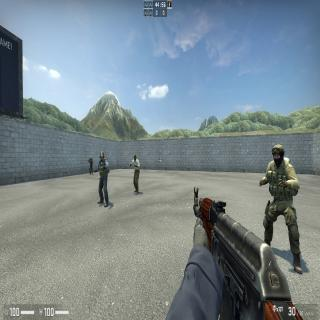CT-Body: (264, 145, 298, 248), (98, 150, 108, 206), (133, 155, 140, 193)
CT-Head: (273, 144, 285, 164), (100, 151, 104, 160), (134, 155, 136, 161)
T-Body: (90, 156, 92, 174)
T-Head: (90, 156, 91, 159)
